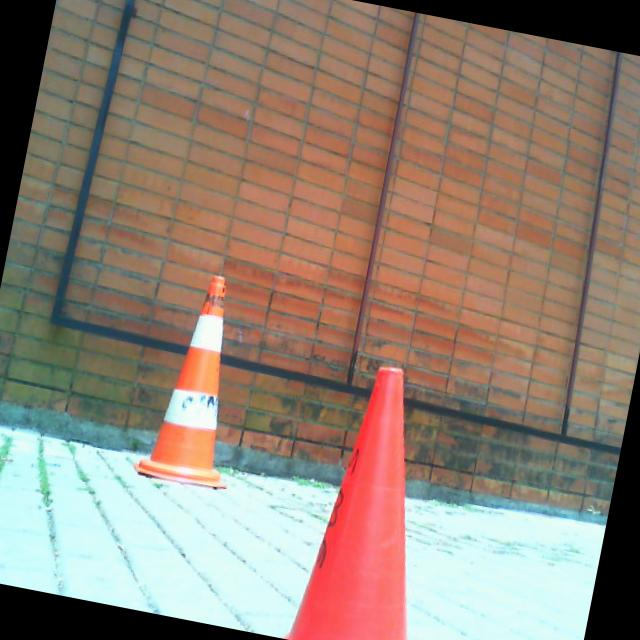cone: (282, 356, 467, 640), (132, 267, 266, 492)
